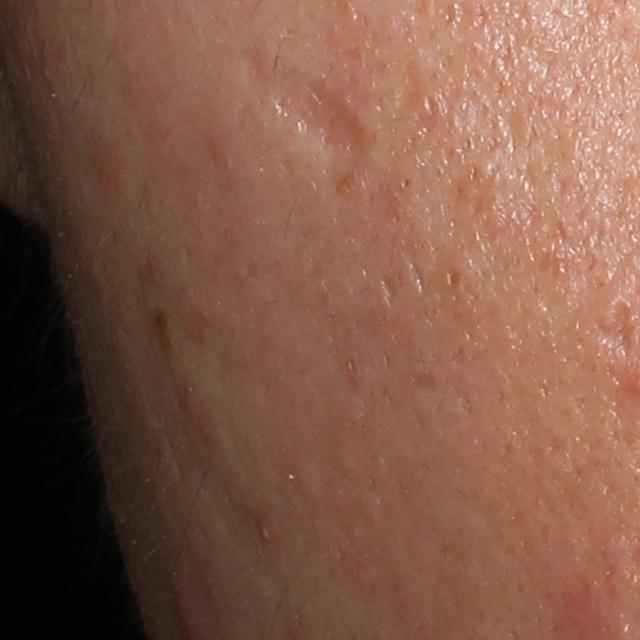atrophic_scar: (251, 48, 371, 151), (591, 298, 637, 360), (400, 259, 429, 311), (375, 274, 397, 309)
